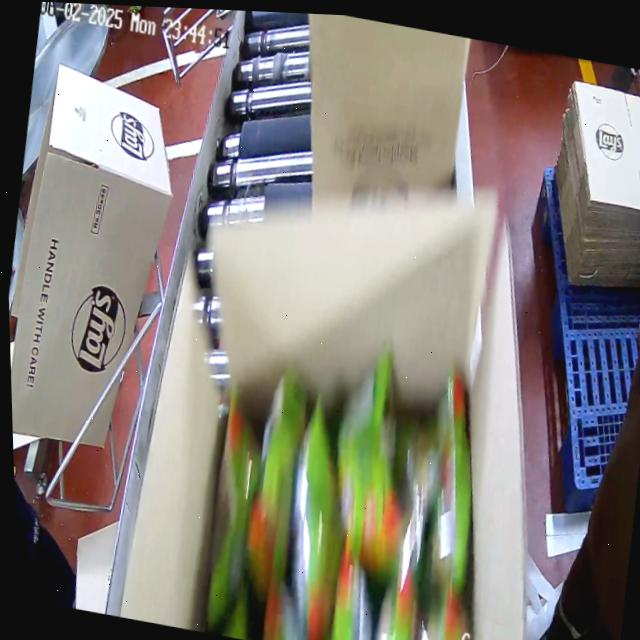YOGURT_HERB: (197, 334, 495, 640)
